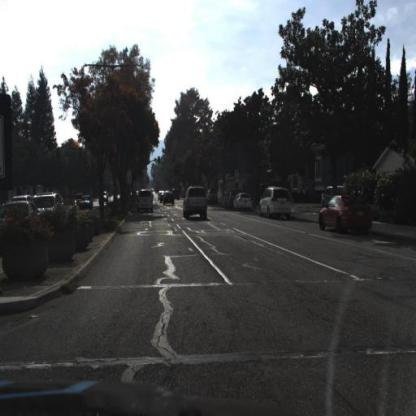car: (320, 193, 374, 236), (182, 184, 212, 228), (257, 186, 292, 221), (35, 186, 66, 223), (140, 191, 162, 227), (233, 192, 253, 214), (207, 187, 222, 208), (163, 188, 177, 209), (79, 196, 95, 214), (228, 190, 237, 210), (100, 190, 111, 204), (172, 187, 182, 199)
